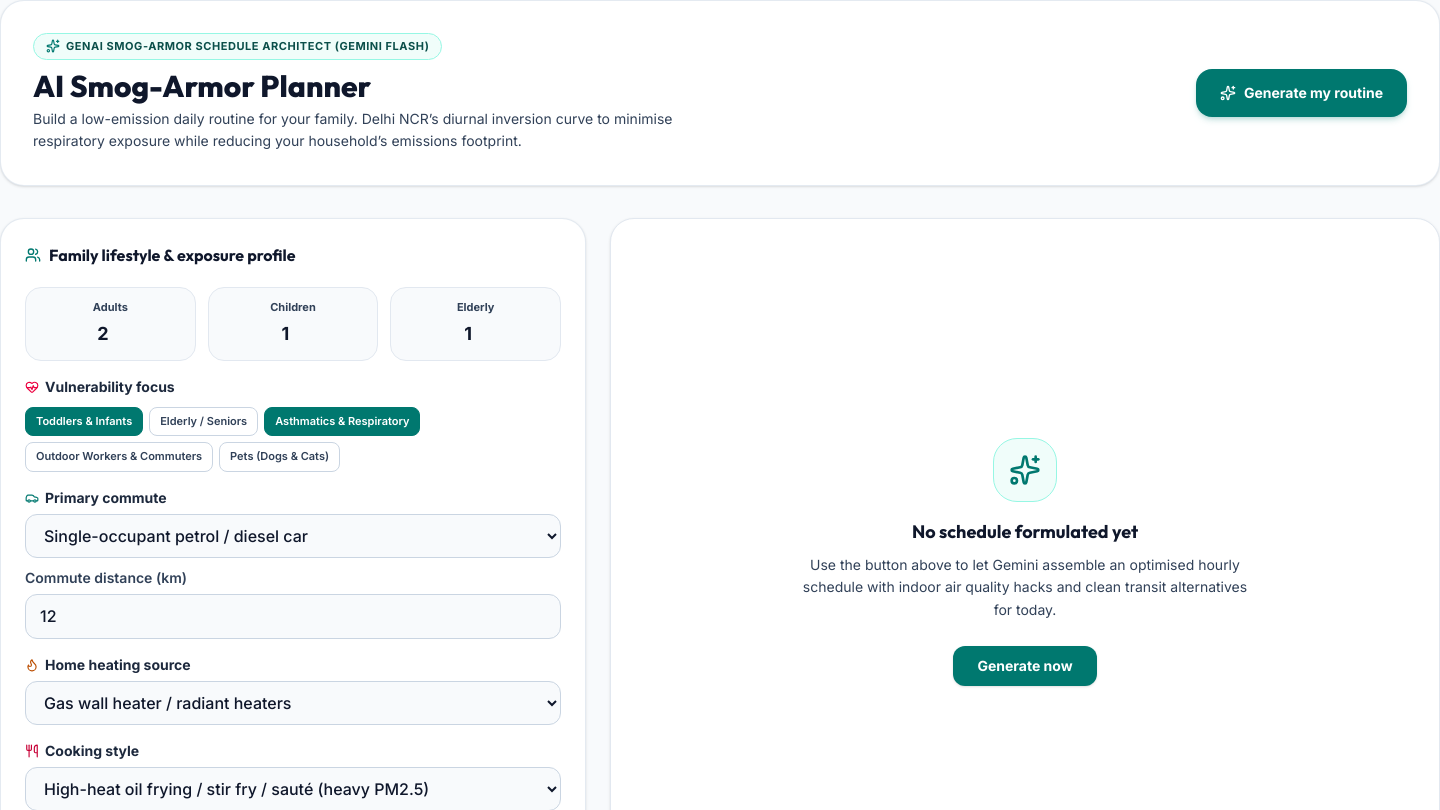
it: GenAISmogPlanner › falls back to the offline guide and labels it when the provider fails
Click the button "Generate my routine": [1301, 93] box x1=1196 y1=69 x2=1407 y2=117
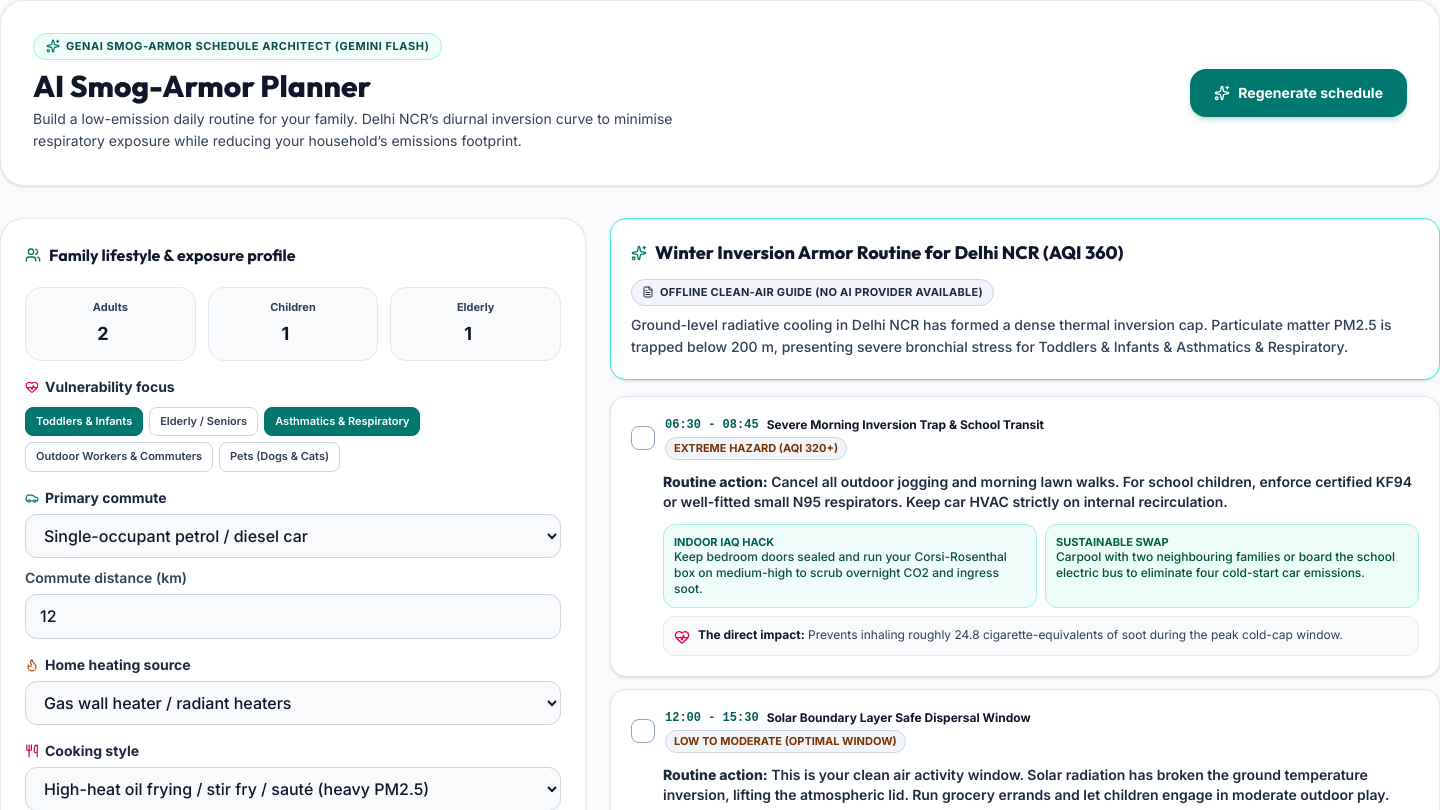
Check: the text "Offline clean-air guide (no AI provider available)" is shown, box x1=631 y1=279 x2=994 y2=306
